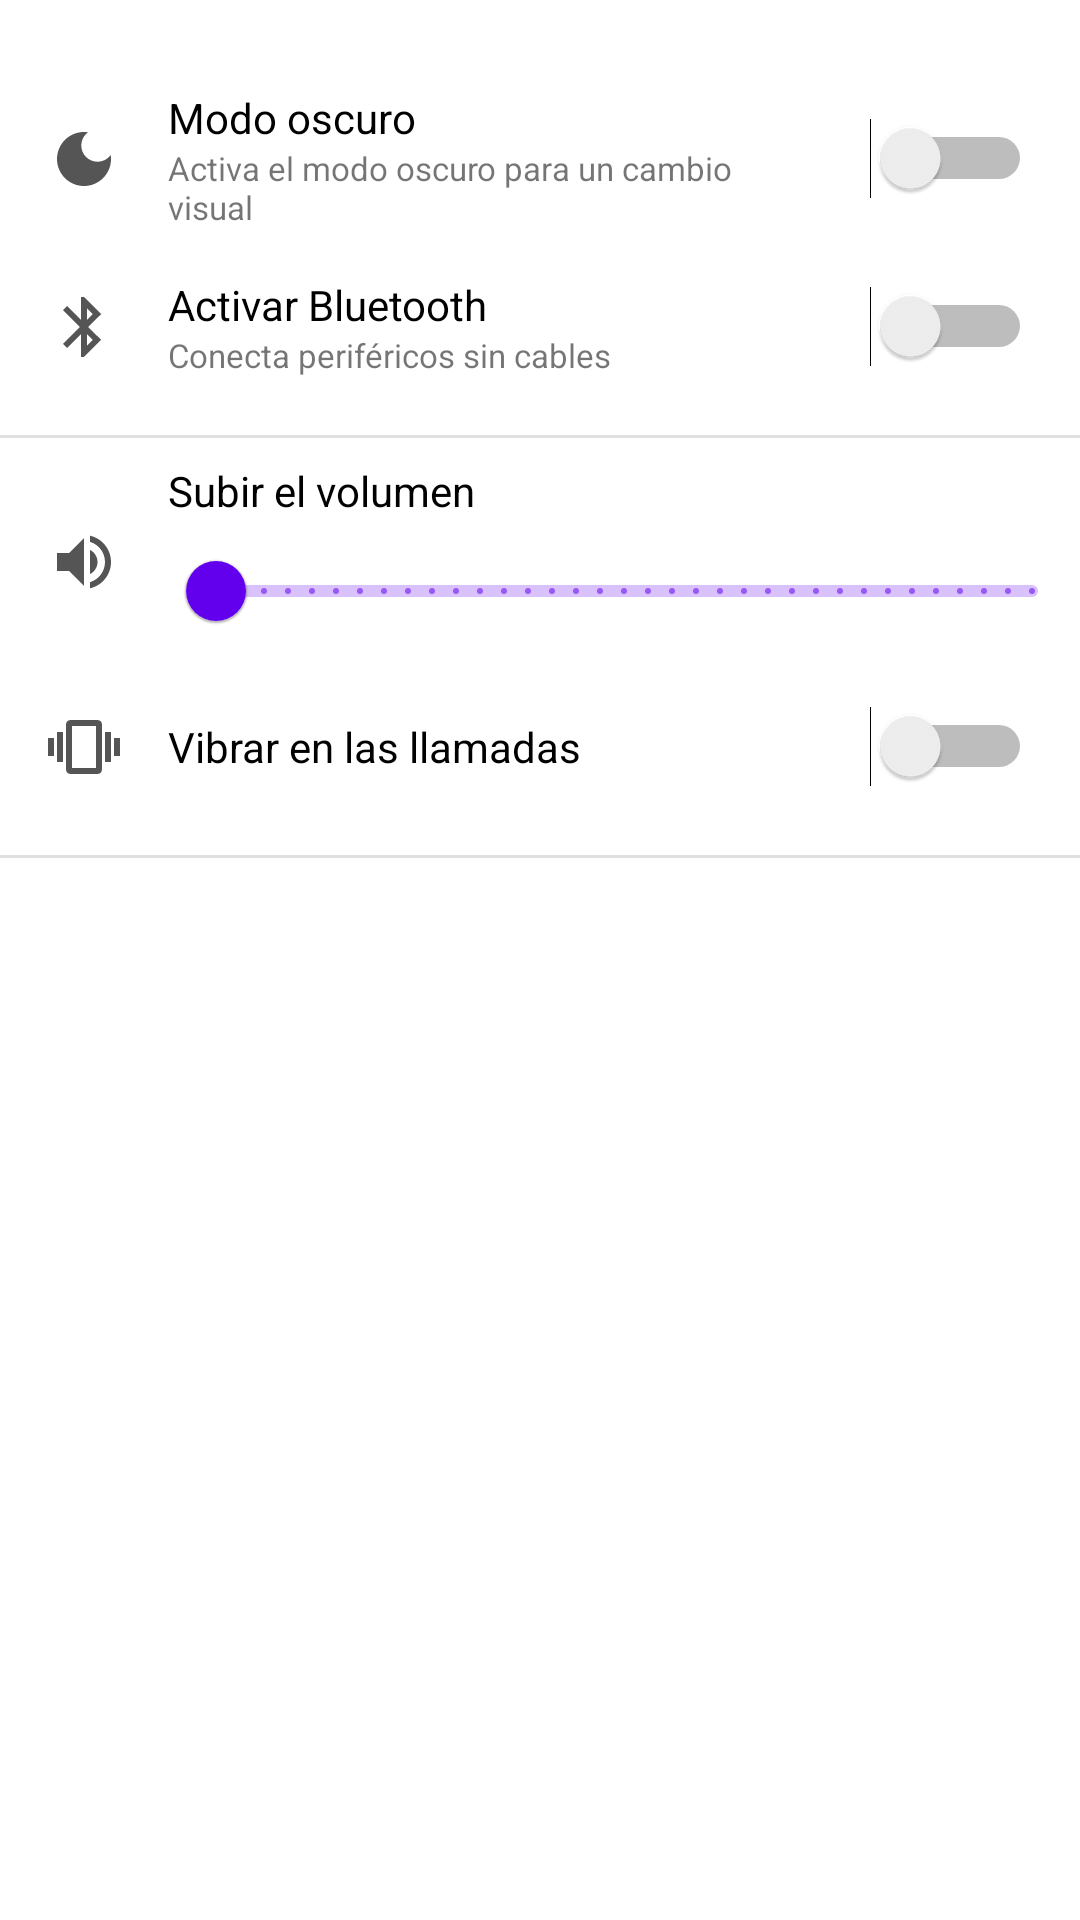

Where icons sit on this 1080 x 1920 app screen, as (x1, y1, x2, y2):
vibration: (48, 720, 120, 774)
